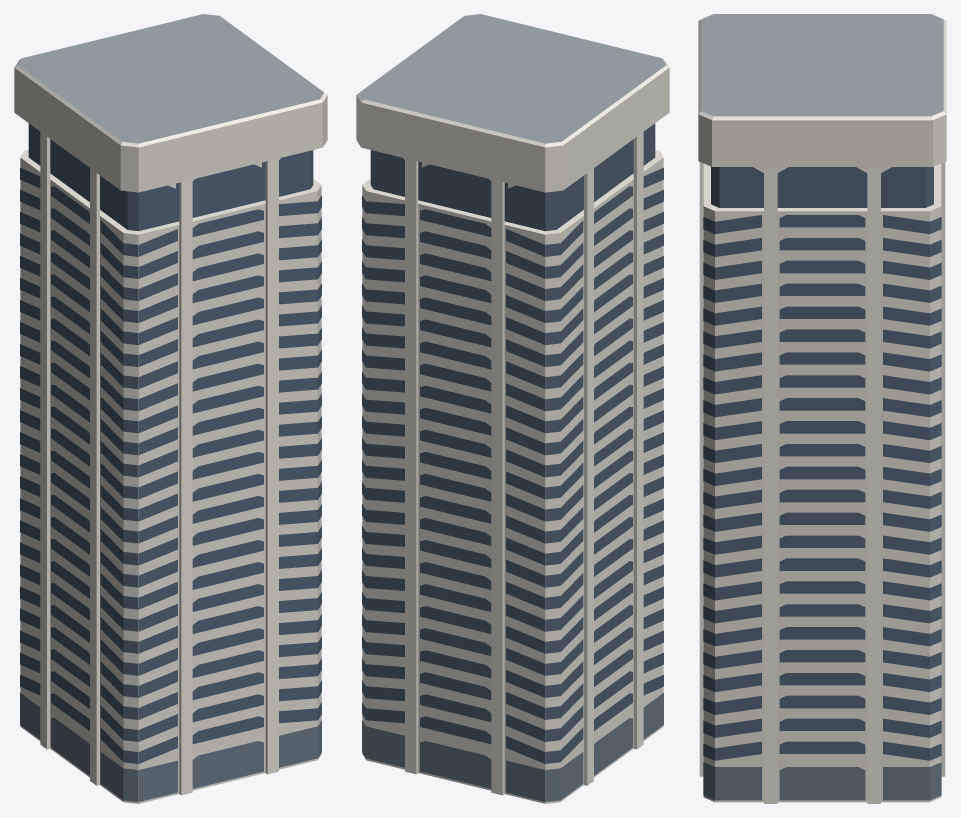
File: jax-riverplace-tower.glb
3 views of the same model, side by side, from view 1: azimuth 30°, elevation 25°; view 2: azimuth 150°, elevation 25°; view 3: azimuth 270°, elevation 25° (orthographic). The views are drawn at different scales.
Visible parts, largest first — view 1: Riverplace Tower; view 2: Riverplace Tower; view 3: Riverplace Tower.
Boxes of the visible parts, bbox=[...] form: Riverplace Tower: bbox=[14, 14, 327, 803]; Riverplace Tower: bbox=[356, 14, 669, 803]; Riverplace Tower: bbox=[698, 14, 946, 803].
Size of the model in its own units: 43.2 by 132 by 43.2.
